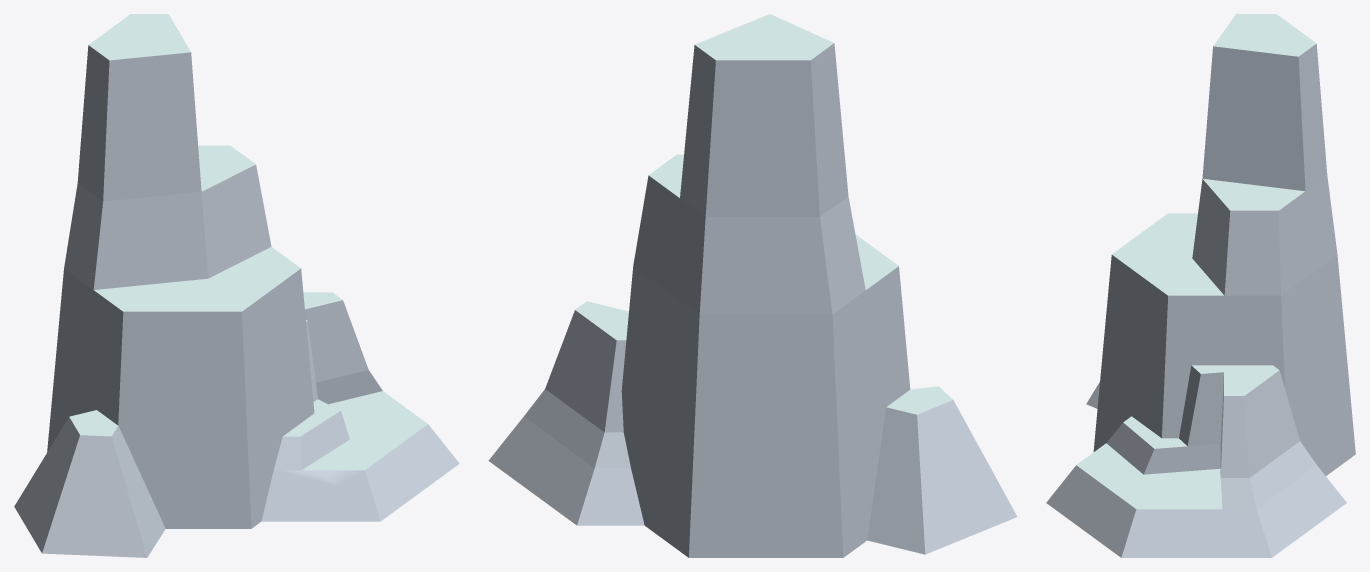
Rendered from rockFormationLarge.fbx.
The picture shows the model from 3 angles, left to right: view 1: azimuth 30°, elevation 25°; view 2: azimuth 150°, elevation 25°; view 3: azimuth 270°, elevation 25°; orthographic projection. The views are drawn at different scales.
Visible parts, largest first — view 1: rockFormationLarge_LOD0; view 2: rockFormationLarge_LOD0; view 3: rockFormationLarge_LOD0.
Boxes of the visible parts, x1,y1,x2,y2 form: rockFormationLarge_LOD0: [14, 14, 459, 557]; rockFormationLarge_LOD0: [488, 14, 1017, 557]; rockFormationLarge_LOD0: [1046, 14, 1355, 557].
Size of what is drawn, in the model's own units: 92.31 by 93.52 by 64.16.
